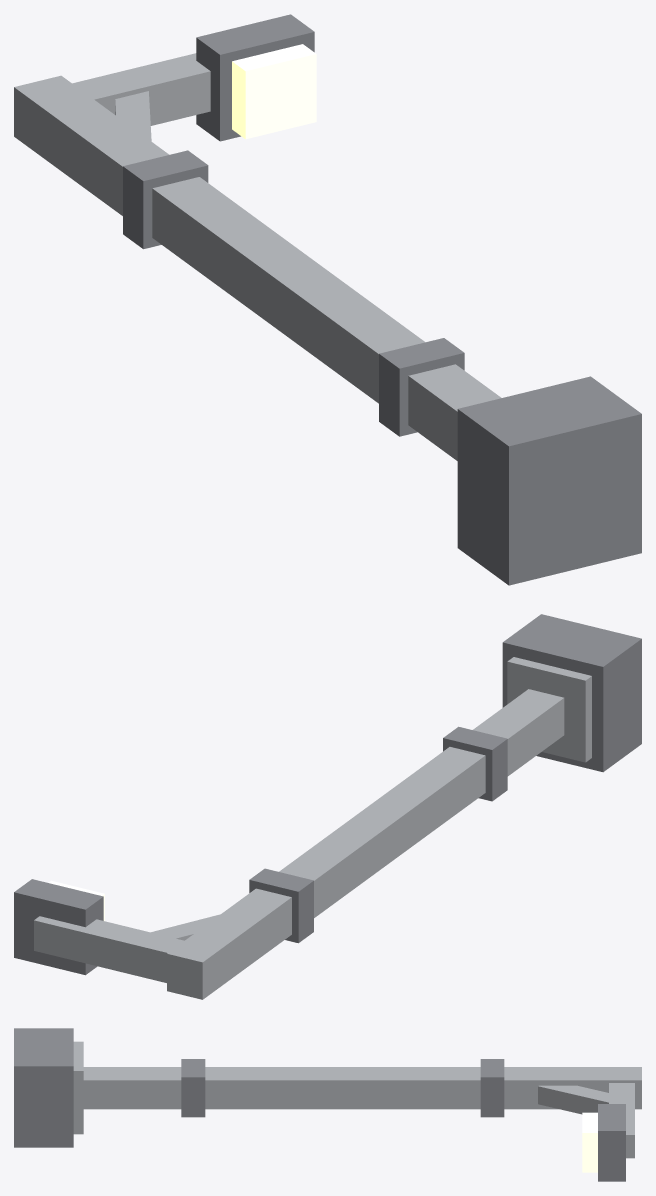
Rendered from streetlamp.glb.
3 renders of one model, top to bottom at view 1: azimuth 30°, elevation 25°; view 2: azimuth 150°, elevation 25°; view 3: azimuth 270°, elevation 25°, orthographic. The views are drawn at different scales.
Parts seen in each view (by area): view 1: Pole, Base, Lamp, Housing, Arm, Collar1, Collar2, Brace; view 2: Pole, Base, Arm, Housing, BaseTrim, Collar1, Collar2, Brace; view 3: Pole, Base, Housing, Brace, Collar1, Collar2, Arm, BaseTrim, Lamp.
Boxes of the visible parts, bbox=[...] form: Pole: bbox=[14, 75, 501, 460]; Base: bbox=[457, 376, 641, 585]; Lamp: bbox=[232, 44, 316, 139]; Housing: bbox=[196, 14, 314, 141]; Arm: bbox=[72, 53, 210, 125]; Collar1: bbox=[379, 338, 464, 436]; Collar2: bbox=[123, 150, 208, 249]; Brace: bbox=[115, 91, 151, 141]; Pole: bbox=[167, 689, 564, 999]; Base: bbox=[502, 614, 641, 772]; Arm: bbox=[34, 916, 184, 982]; Housing: bbox=[14, 879, 103, 975]; BaseTrim: bbox=[507, 657, 591, 762]; Collar1: bbox=[443, 726, 507, 801]; Collar2: bbox=[249, 868, 313, 943]; Brace: bbox=[151, 914, 220, 940]; Pole: bbox=[83, 1067, 641, 1109]; Base: bbox=[14, 1028, 73, 1147]; Housing: bbox=[598, 1104, 625, 1181]; Brace: bbox=[538, 1085, 608, 1114]; Collar1: bbox=[181, 1059, 205, 1117]; Collar2: bbox=[480, 1059, 504, 1117]; Arm: bbox=[609, 1083, 634, 1158]; BaseTrim: bbox=[73, 1041, 83, 1134]; Lamp: bbox=[582, 1112, 597, 1172].
Size of the model in its own units: 1.03 by 0.45 by 3.15.
